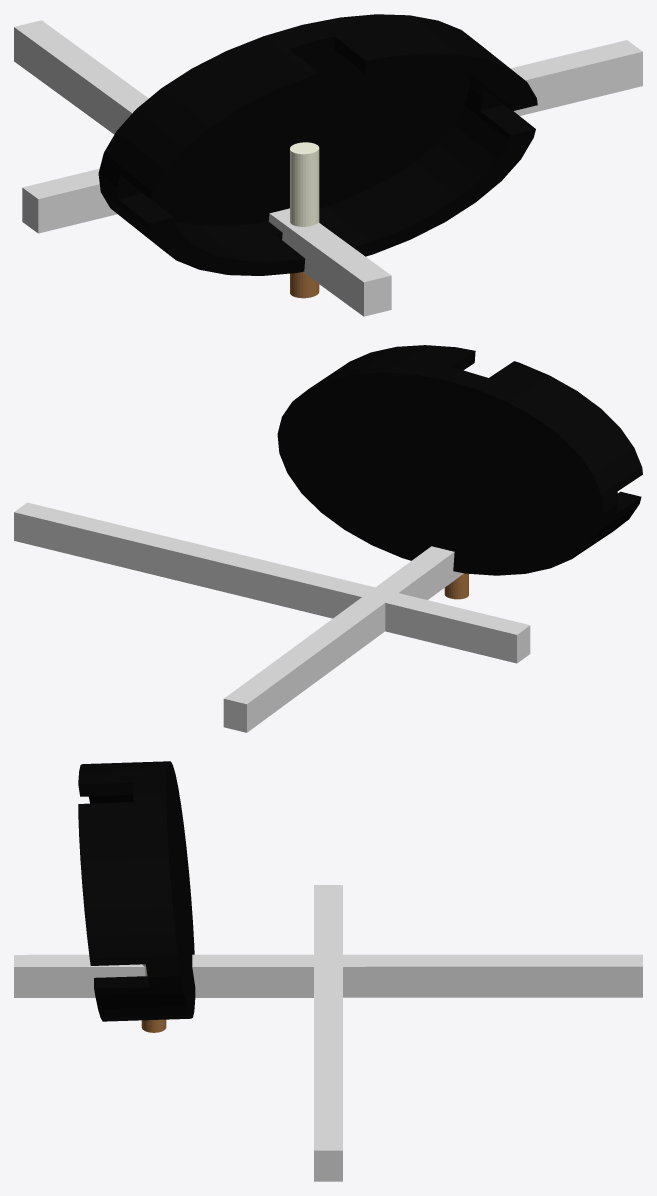
File: ashtray.glb
3 renders of one model, top to bottom at view 1: azimuth 30°, elevation 25°; view 2: azimuth 150°, elevation 25°; view 3: azimuth 270°, elevation 25°, orthographic. The views are drawn at different scales.
Visible parts, largest first — view 1: Cylinder, Cube.001, Cube; view 2: Cylinder, Cube, Cube.001; view 3: Cylinder, Cube.001, Cube.
Part boxes in pixels (x1,y1,x2,y2): Cylinder: [98, 14, 537, 298]; Cube.001: [14, 20, 391, 316]; Cube: [22, 40, 642, 233]; Cylinder: [277, 345, 642, 599]; Cube: [14, 502, 530, 663]; Cube.001: [223, 546, 463, 732]; Cylinder: [78, 761, 195, 1032]; Cube.001: [14, 954, 642, 997]; Cube: [314, 885, 342, 1181].
Size of the model in its own units: 5.3 by 2.14 by 5.19.
